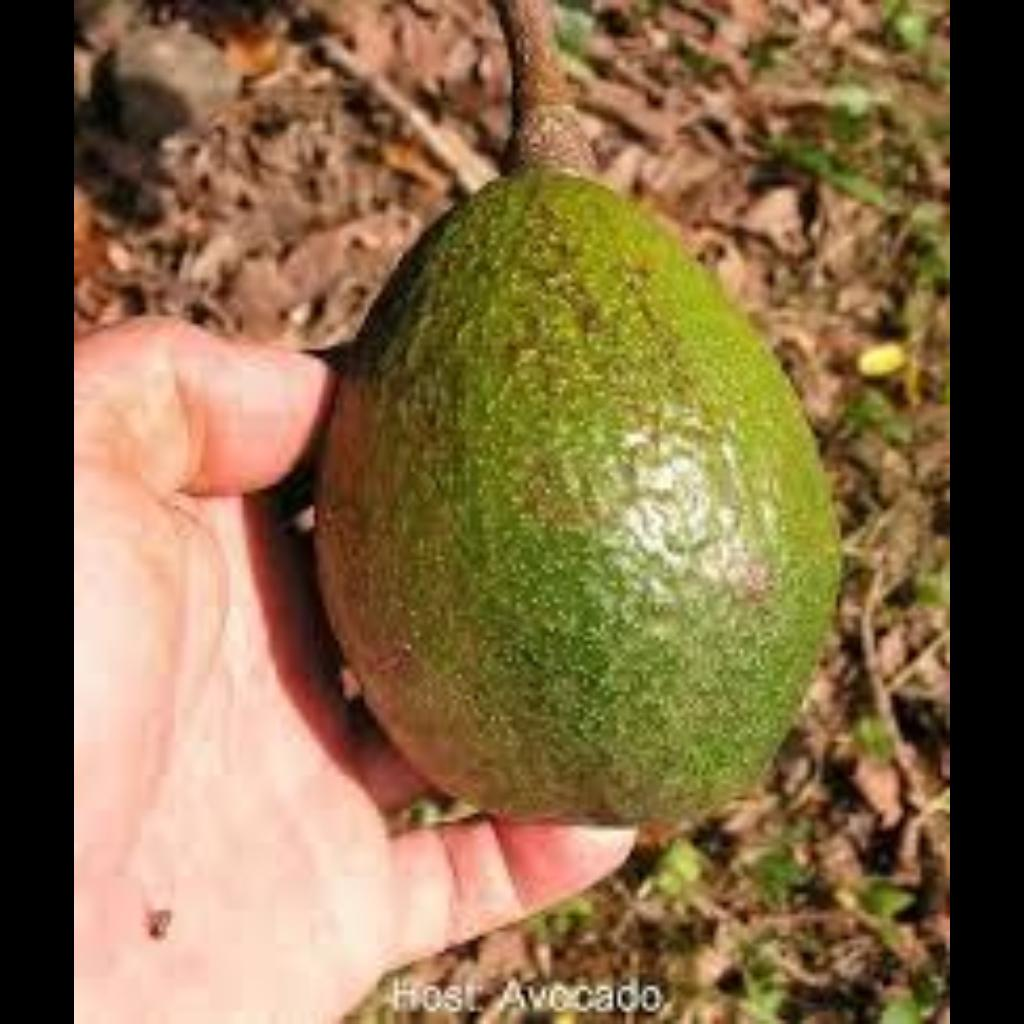cercospora: (398, 151, 853, 733)
